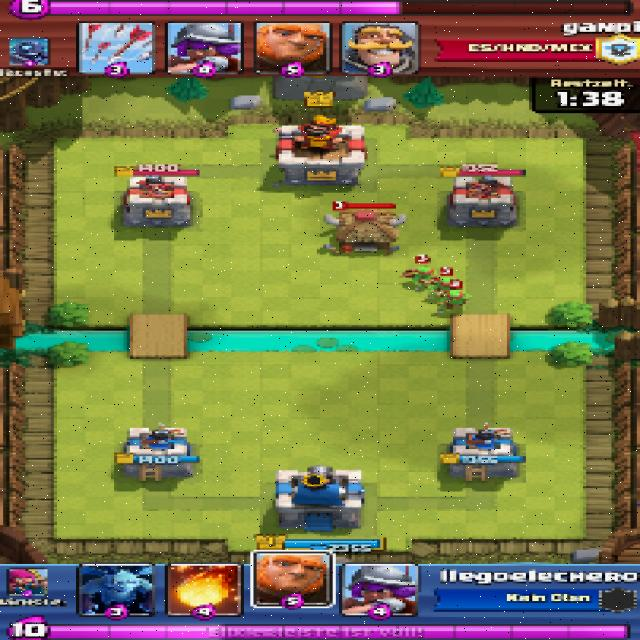Enemy-GoblinHut: (332, 211, 399, 252)
Enemy-SpearGoblin: (439, 292, 476, 316), (404, 264, 435, 288), (431, 275, 456, 296)
